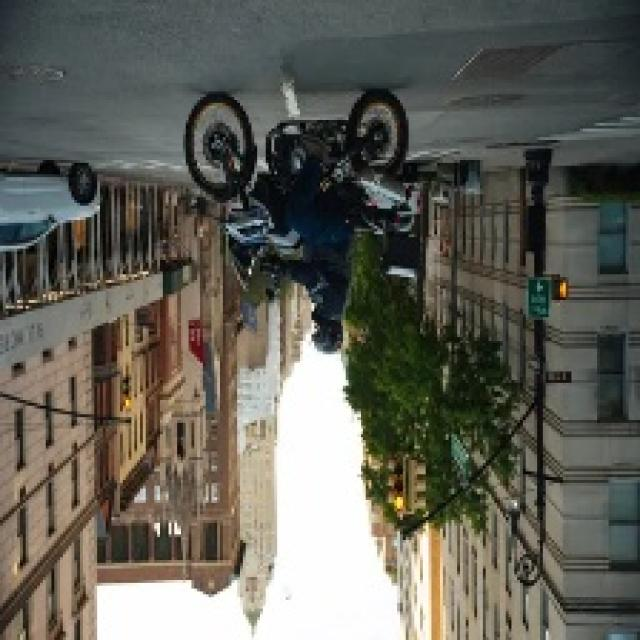bike: (170, 89, 432, 274)
car: (4, 157, 115, 267)
